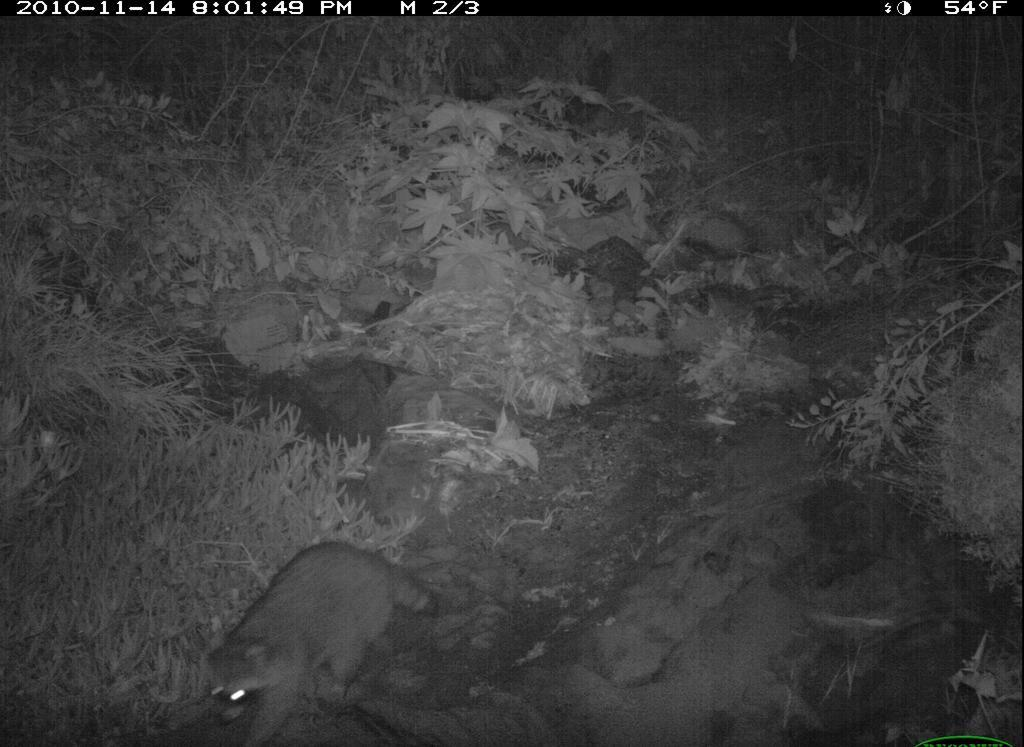raccoon: (191, 536, 446, 742)
